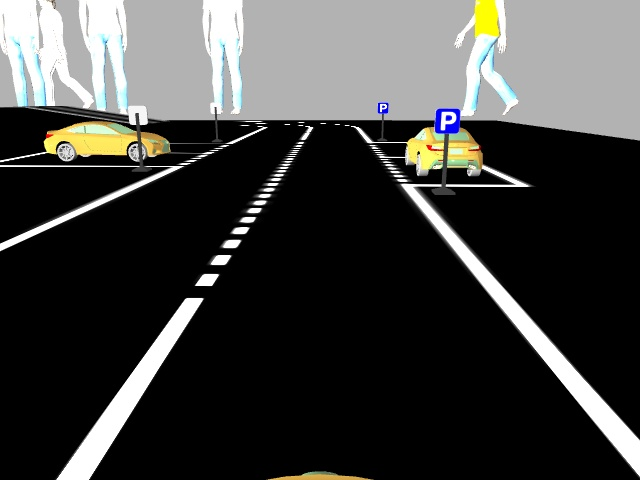Parking: (434, 108, 460, 135), (374, 100, 388, 114)
